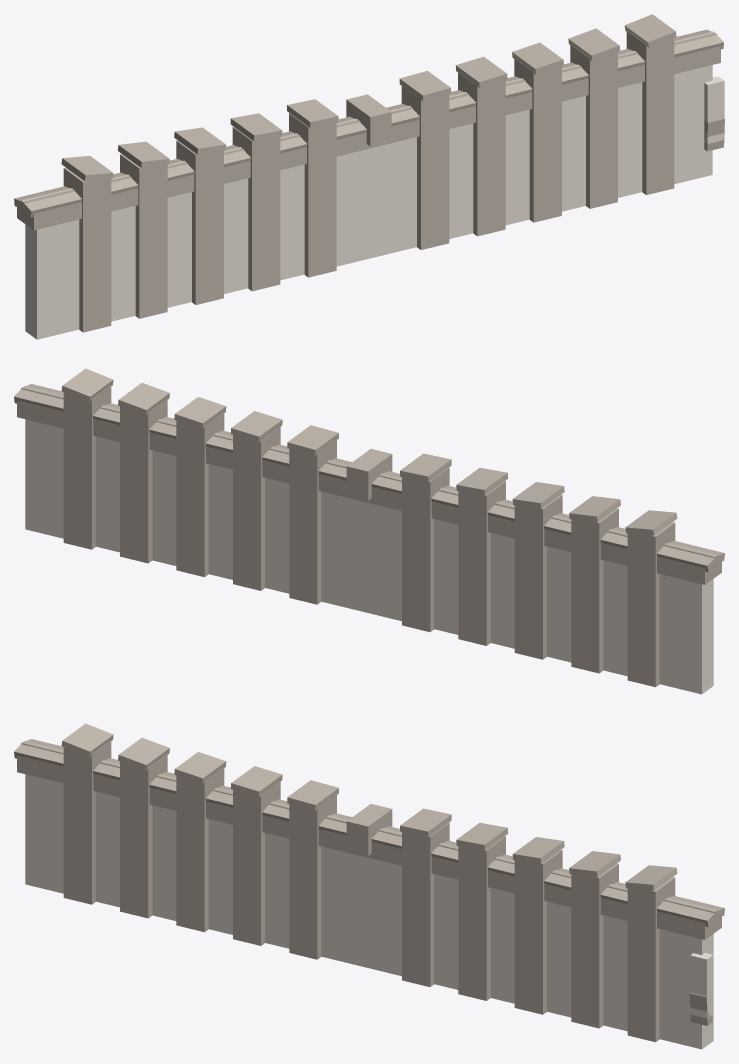
The model's file is boundary-wall.glb.
The picture shows the model from 3 angles, top to bottom: view 1: azimuth 30°, elevation 25°; view 2: azimuth 150°, elevation 25°; view 3: azimuth 330°, elevation 25°; orthographic projection.
Parts seen in each view (by area): view 1: stone, render; view 2: stone, render; view 3: stone, render.
Part boxes in pixels (left/top/right/bottom): stone: left=14, top=14, right=724, bottom=332; render: left=25, top=65, right=724, bottom=339; stone: left=14, top=368, right=724, bottom=687; render: left=25, top=419, right=713, bottom=694; stone: left=14, top=723, right=724, bottom=1042; render: left=25, top=774, right=713, bottom=1049.
Bounding box in the file's own units: 12.3 × 2.69 × 0.74.
